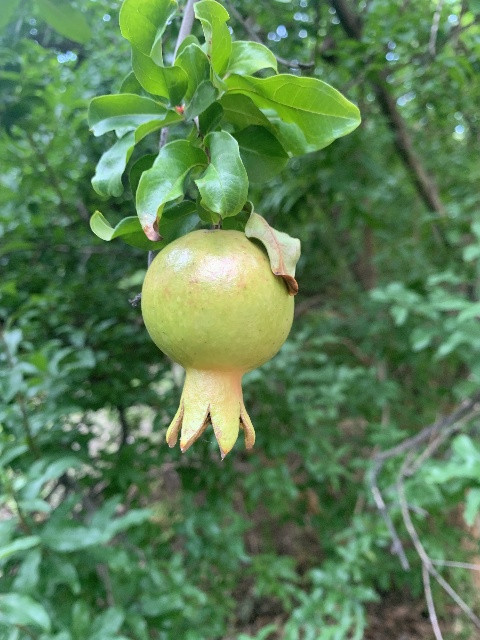mid-growth: (139, 226, 294, 459)
